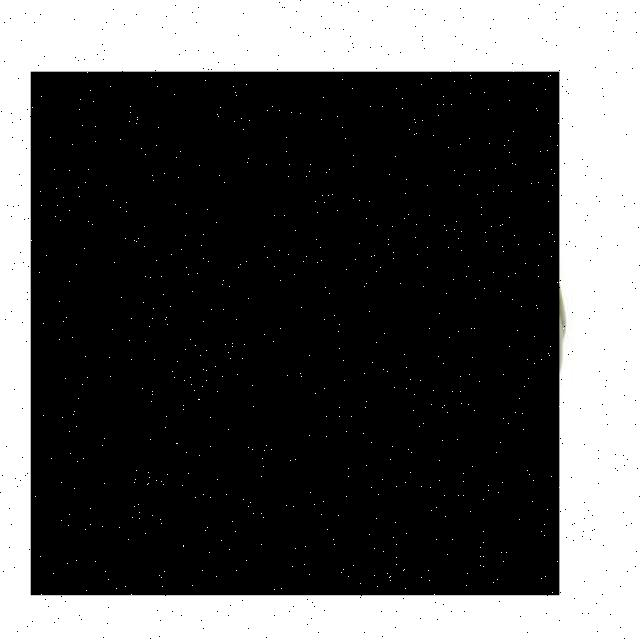Pumpkin: (31, 72, 559, 595)
